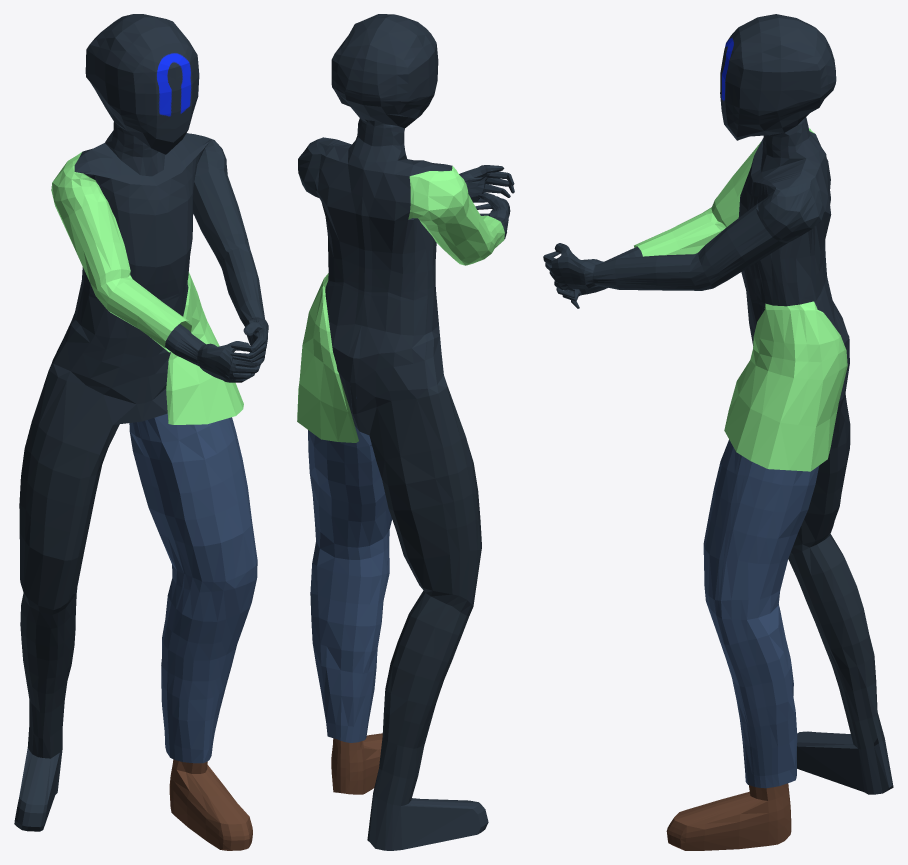
File: Mar_WF_000013.obj
3 views of the same model, side by side, from view 1: azimuth 30°, elevation 25°; view 2: azimuth 150°, elevation 25°; view 3: azimuth 270°, elevation 25° (orthographic). The views are drawn at different scales.
Visible parts, largest first — view 1: Cube.000_Cube.001; view 2: Cube.000_Cube.001; view 3: Cube.000_Cube.001.
Part boxes in pixels (box(x1,y1,x2,y2)): Cube.000_Cube.001: box(14, 14, 268, 850); Cube.000_Cube.001: box(297, 14, 514, 850); Cube.000_Cube.001: box(543, 14, 893, 850).
Size of the model in its own units: 1.05 by 3.89 by 1.54.
